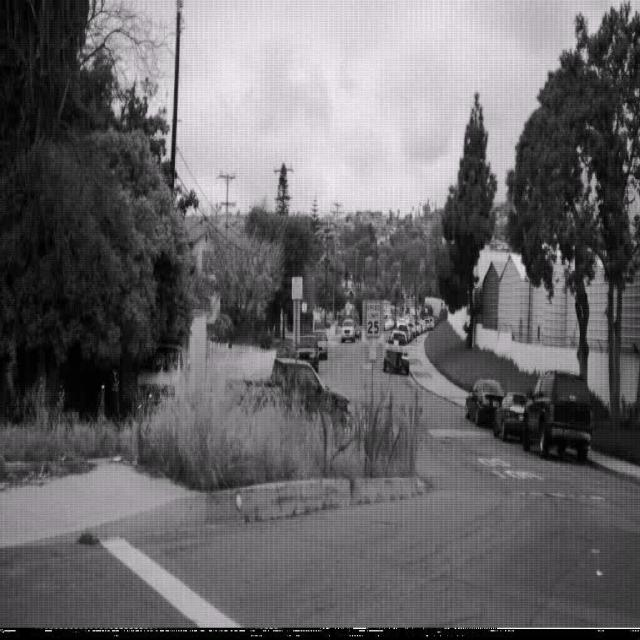speedLimit25: (365, 300, 380, 338)
